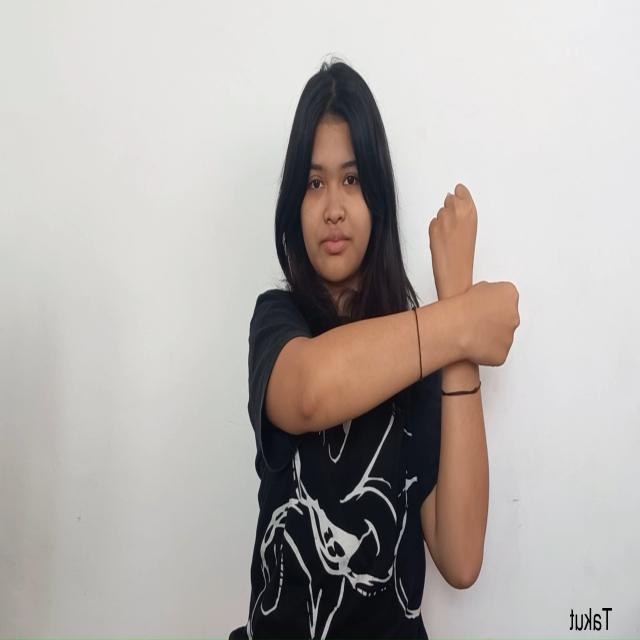Takut -BISINDO-: (418, 180, 522, 413)
